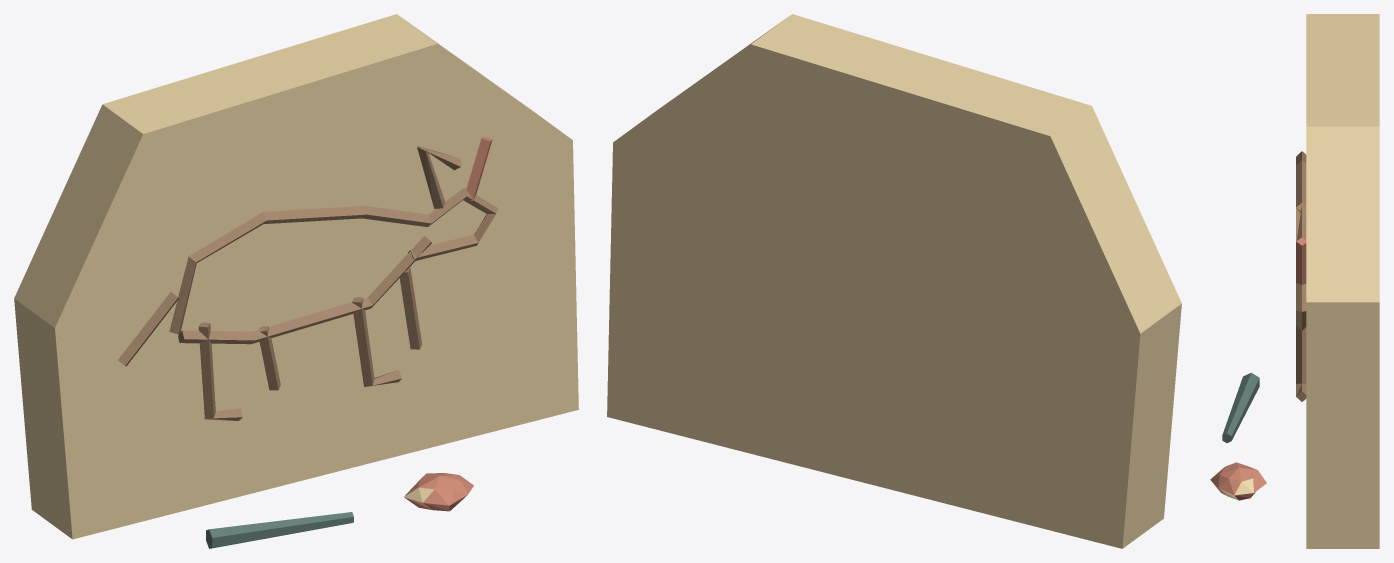
The model's file is chauvet-human-activity.7cdc08f3fafa.glb.
3 views of the same model, side by side, from view 1: azimuth 30°, elevation 25°; view 2: azimuth 150°, elevation 25°; view 3: azimuth 270°, elevation 25° (orthographic). The views are drawn at different scales.
Visible parts, largest first — view 1: chauvet-human-activity; view 2: chauvet-human-activity; view 3: chauvet-human-activity.
Part boxes in pixels (x1=…): chauvet-human-activity: x1=14, y1=14, x2=578, y2=548; chauvet-human-activity: x1=607, y1=14, x2=1181, y2=548; chauvet-human-activity: x1=1210, y1=14, x2=1379, y2=548.
Bounding box in the file's own units: 1 × 0.7787 × 0.3117.
